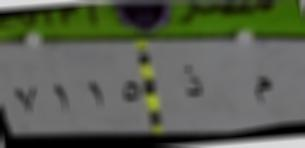1: (48, 76, 74, 120), (86, 76, 112, 116)
5: (119, 74, 141, 107)
7: (12, 80, 42, 119)
meem: (249, 69, 275, 112)
zaal: (178, 56, 207, 106)
